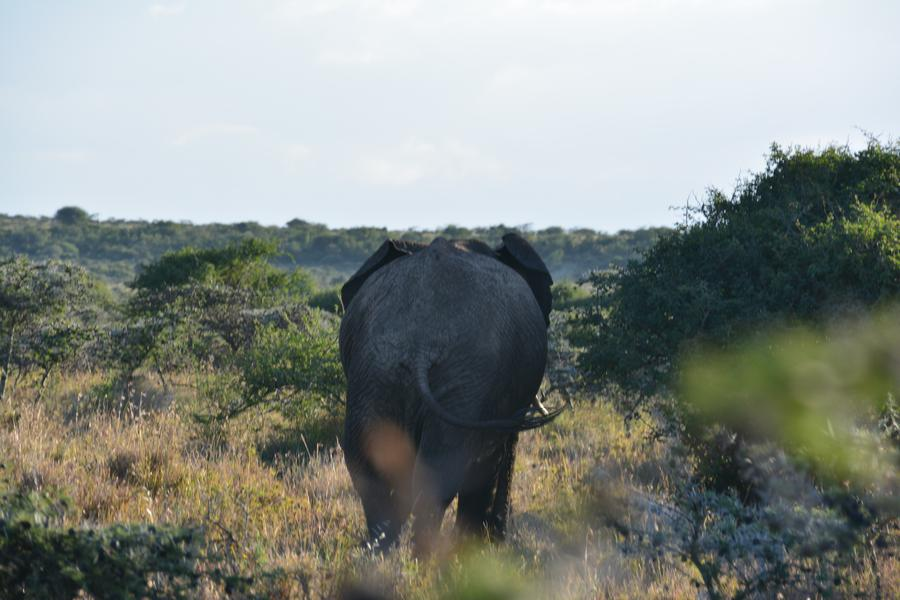elephant: (338, 229, 538, 539)
